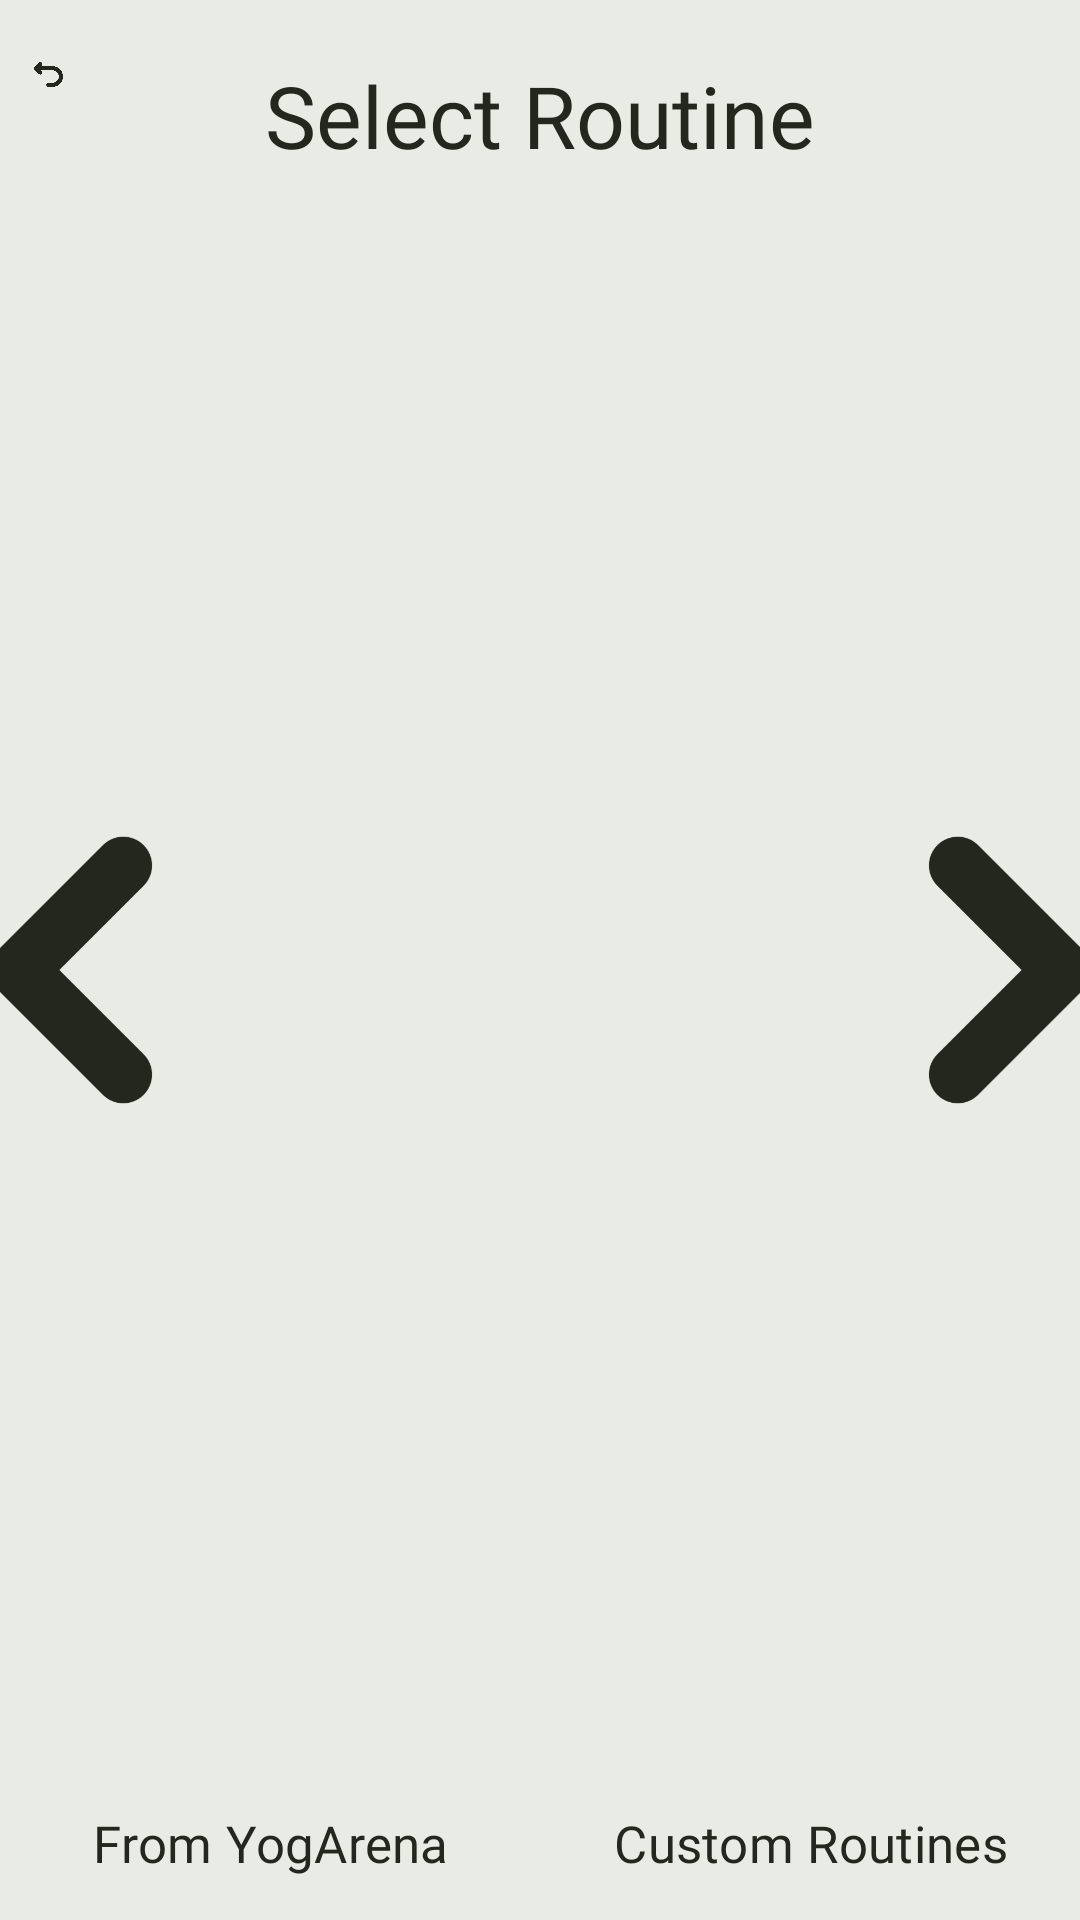

Screen size 1080px×1920px. Icon name, then its center in pixels as (x=x, y=y):
back: (x=48, y=74)
